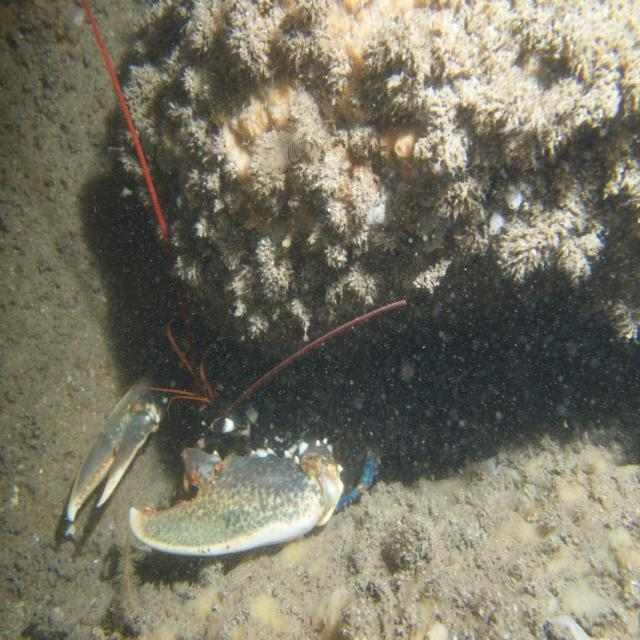lobsters: (0, 192, 475, 640)
